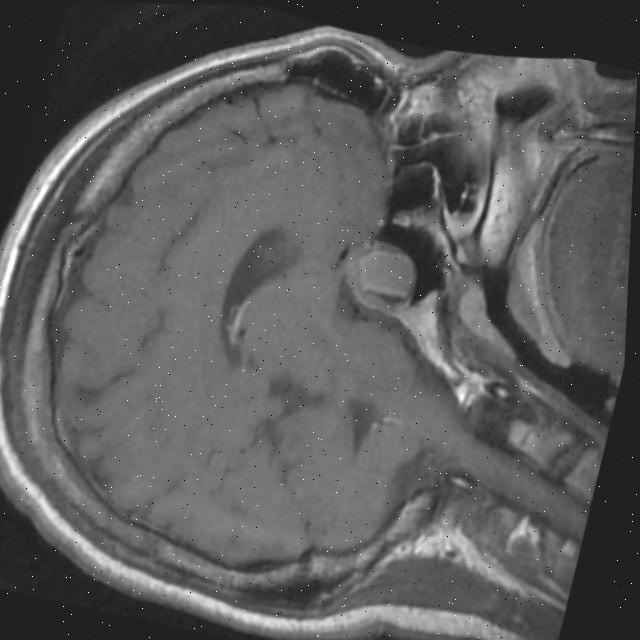Pituitary: (334, 235, 422, 318)
